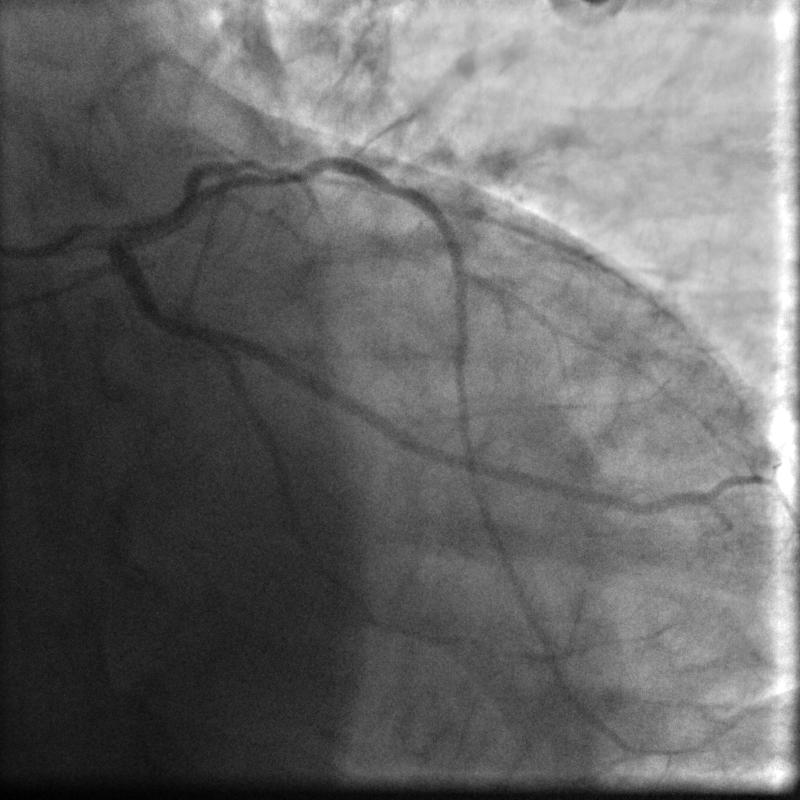Stenosis: (254, 147, 364, 184)
